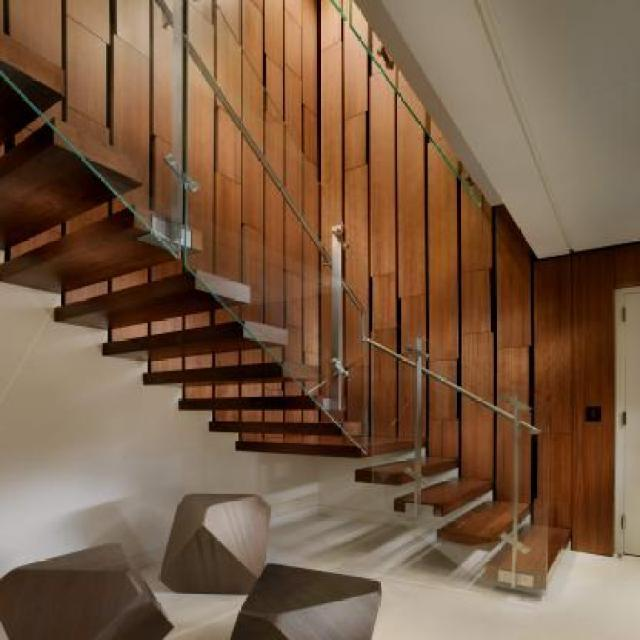stair: (0, 0, 615, 612)
